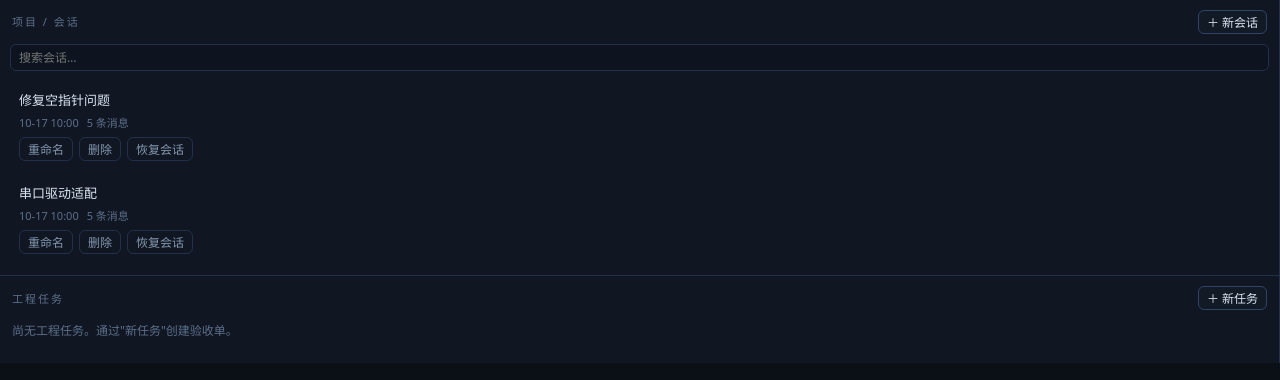
it: Sidebar：搜索 / 重命名 / 删除交互 › 搜索：按标题子串过滤；无结果显示空态
Type "串口" into the search field with test id "thread-search". click: (640, 58)
box: [10, 44, 1269, 71]
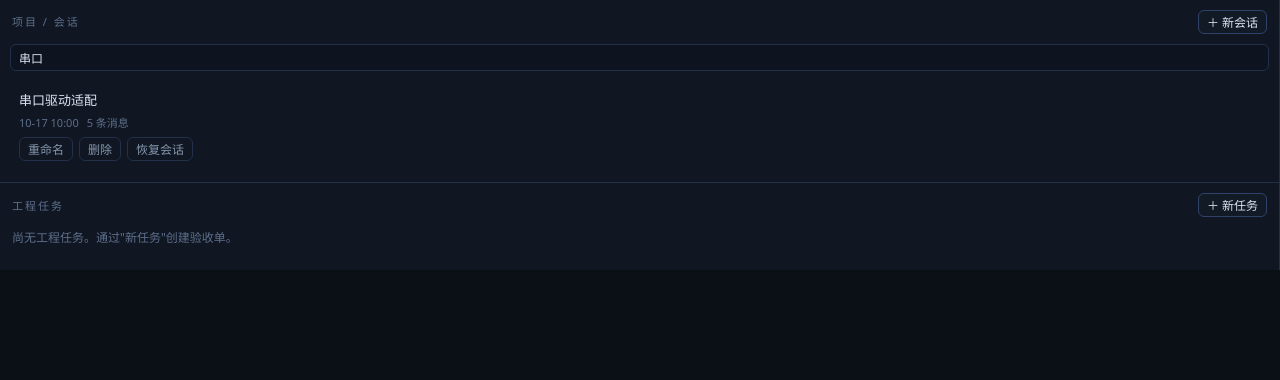
Expected: the list item with test id "thread-item" shows "串口驱动适配", [19, 90, 1260, 110]
Replace the text in the search field with test id "thread-search" with "不存在的关键词". click: (640, 58)
box: [10, 44, 1269, 71]
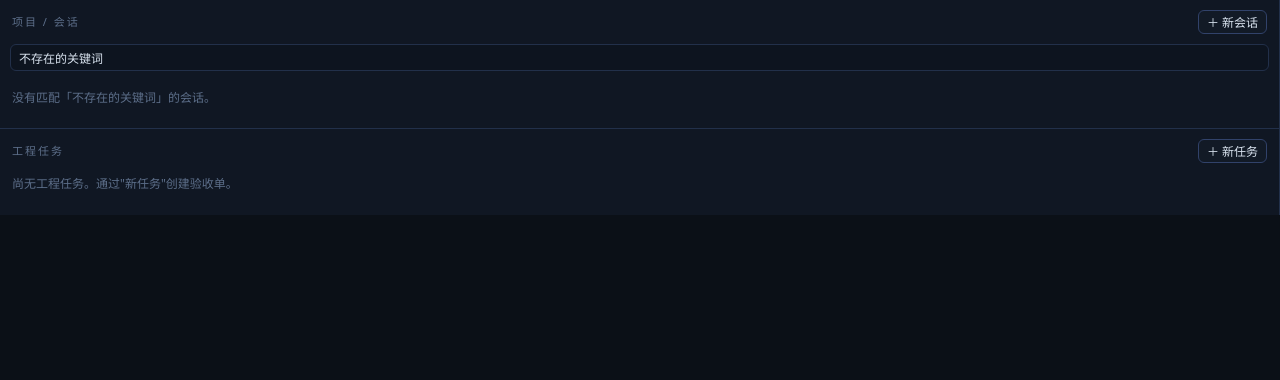
Expected: the text "没有匹配「不存在的关键词」的会话。" is shown, [12, 89, 216, 106]
